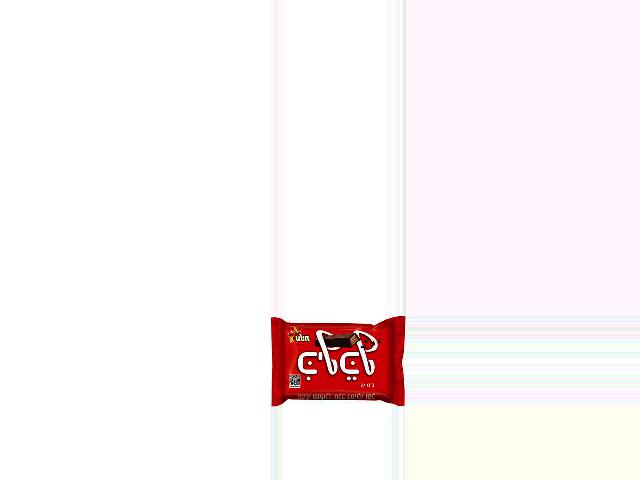chocolate: (271, 316, 404, 407)
